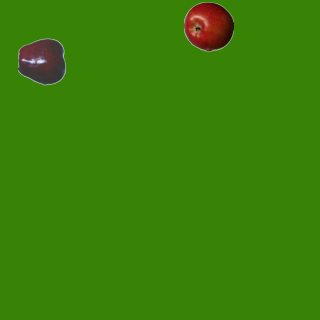Apple Braeburn: (183, 1, 233, 51)
Apple Red Delicious: (17, 36, 67, 86)
